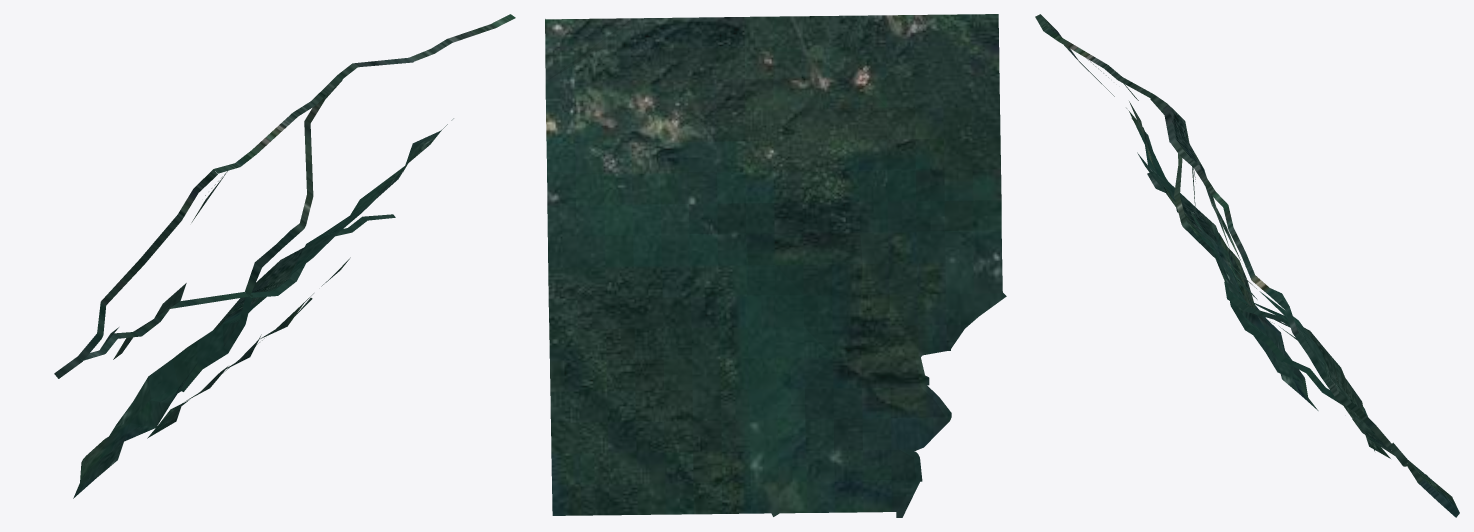
The picture shows the model from 3 angles, left to right: view 1: azimuth 30°, elevation 25°; view 2: azimuth 150°, elevation 25°; view 3: azimuth 270°, elevation 25°; orthographic projection. The views are drawn at different scales.
Bounding box in the file's own units: 2465 × 2187 × 2140.
Materials: 1 (1 with a texture image).
